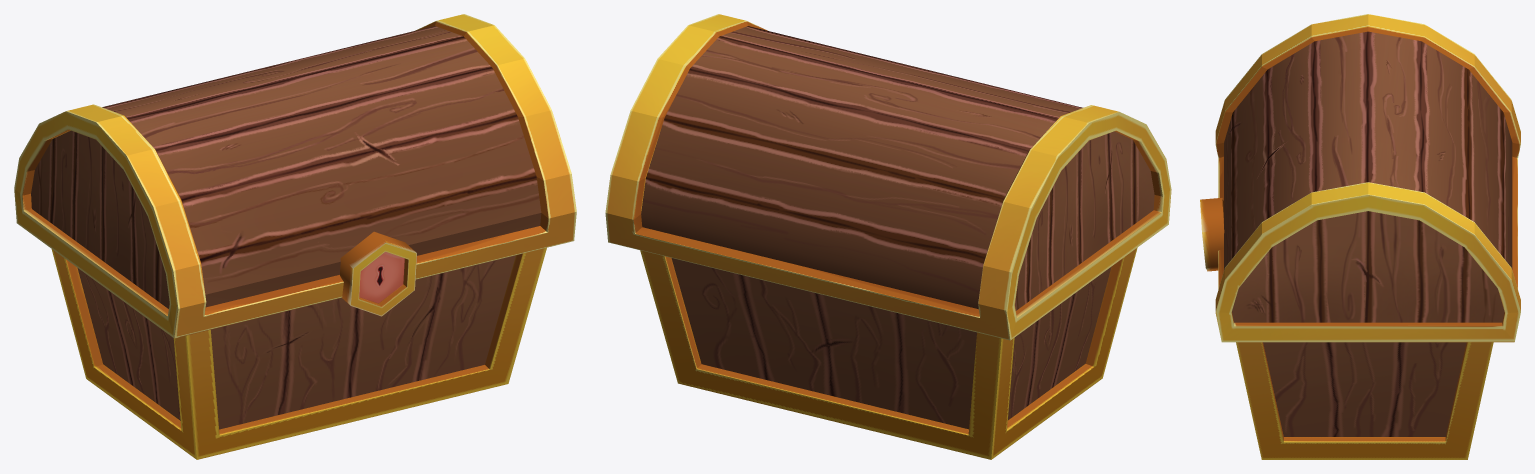
The model's file is chest.FBX.
The picture shows the model from 3 angles, left to right: view 1: azimuth 30°, elevation 25°; view 2: azimuth 150°, elevation 25°; view 3: azimuth 270°, elevation 25°; orthographic projection. The views are drawn at different scales.
Parts seen in each view (by area): view 1: Cylinder001, Box001; view 2: Cylinder001, Box001; view 3: Cylinder001, Box001.
Part boxes in pixels (x1=…): Cylinder001: x1=14, y1=14, x2=576, y2=338; Box001: x1=51, y1=247, x2=546, y2=459; Cylinder001: x1=605, y1=14, x2=1171, y2=340; Box001: x1=640, y1=247, x2=1137, y2=459; Cylinder001: x1=1200, y1=14, x2=1520, y2=342; Box001: x1=1236, y1=342, x2=1493, y2=459.
Bounding box in the file's own units: 20.05 × 14.68 × 14.99.
